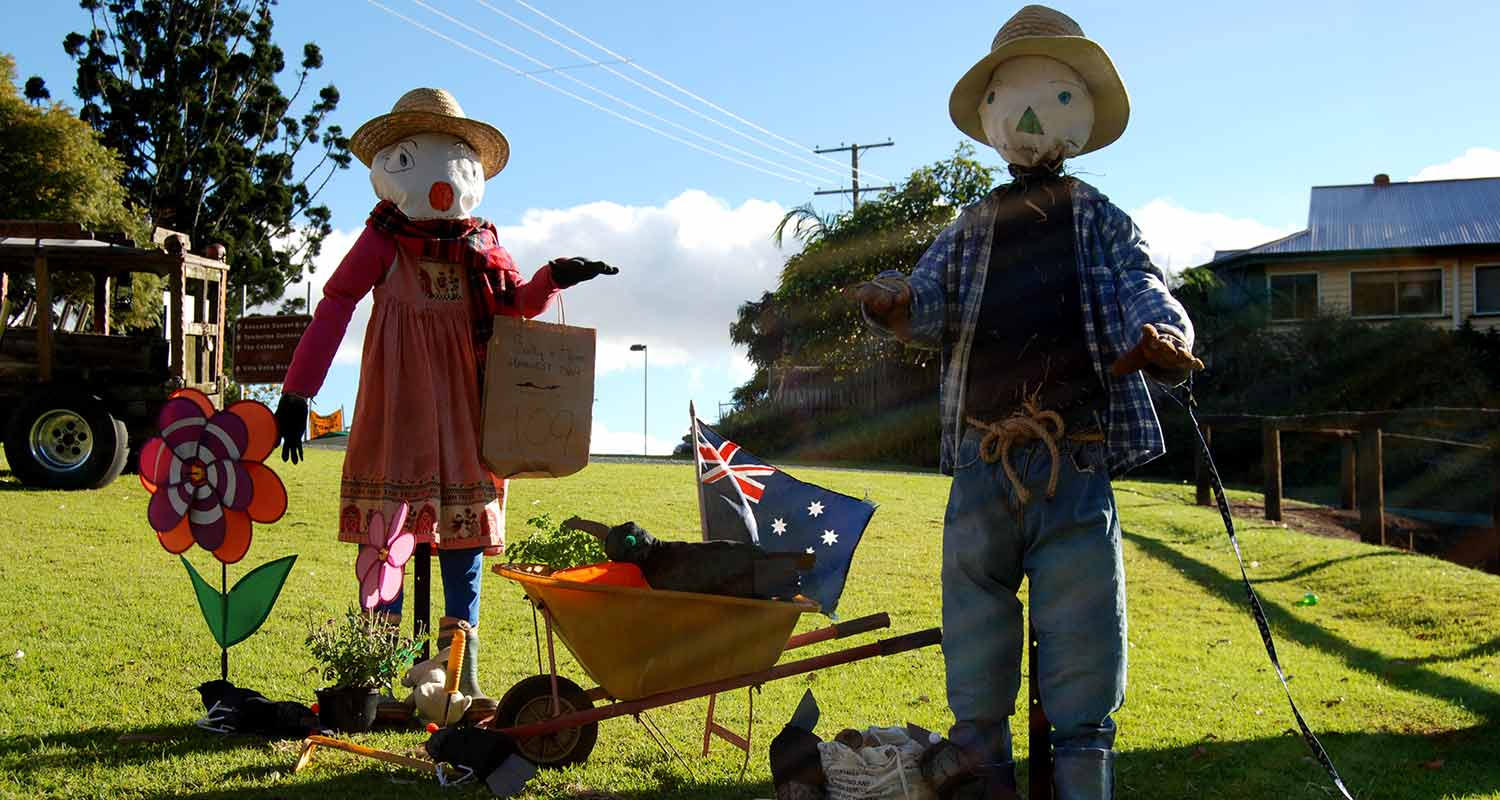person-like: (842, 4, 1204, 800), (271, 84, 625, 715)
